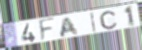1: (125, 5, 137, 28)
4: (21, 22, 37, 44)
A: (59, 16, 80, 38)
C: (99, 10, 118, 30)
F: (38, 17, 57, 44)
I: (90, 11, 97, 34)
